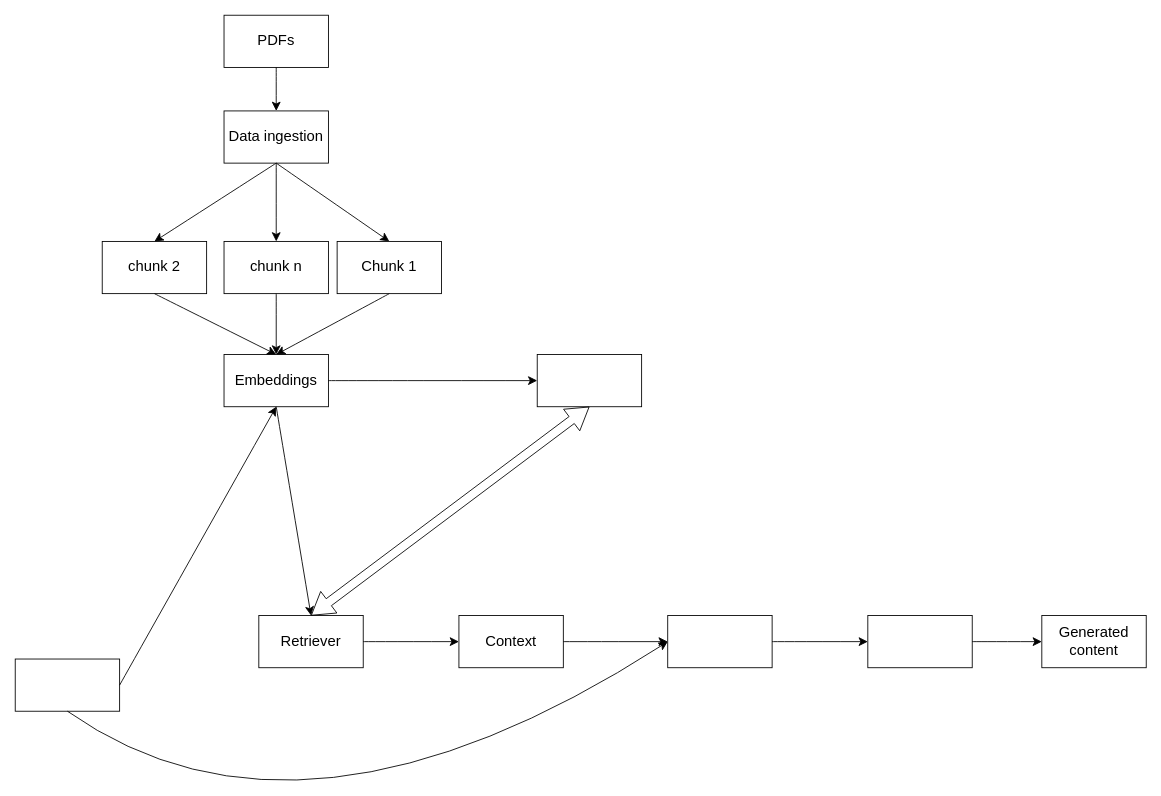
Image size: 1161x796. Some labels were removed from this diagram. Each missing label, with the centre of its shape:
"Augemented prompt" belongs at point 719,641.
"LLM" belongs at point 919,641.
"Prompt" belongs at point 67,684.
"VectorDB" belongs at point 589,380.
